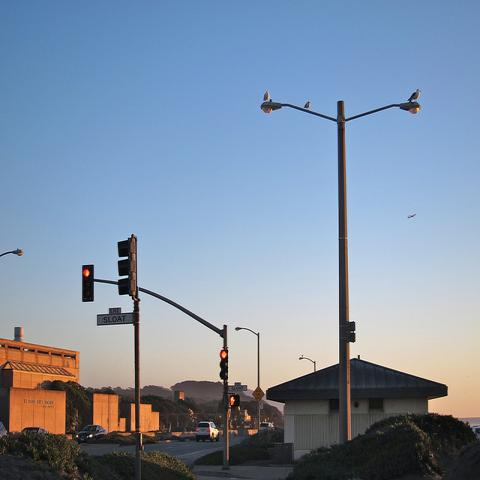car: (76, 424, 109, 442), (196, 422, 220, 442), (20, 428, 48, 433), (260, 422, 274, 430)
